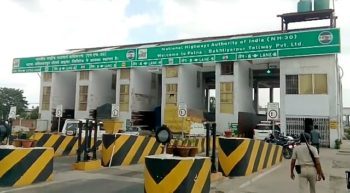toll plaza: (21, 26, 345, 132)
